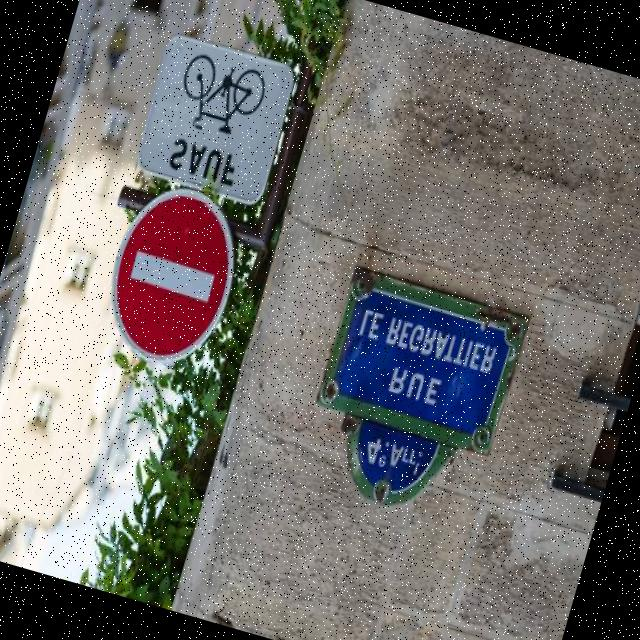do_not_enter: (85, 165, 260, 384)
